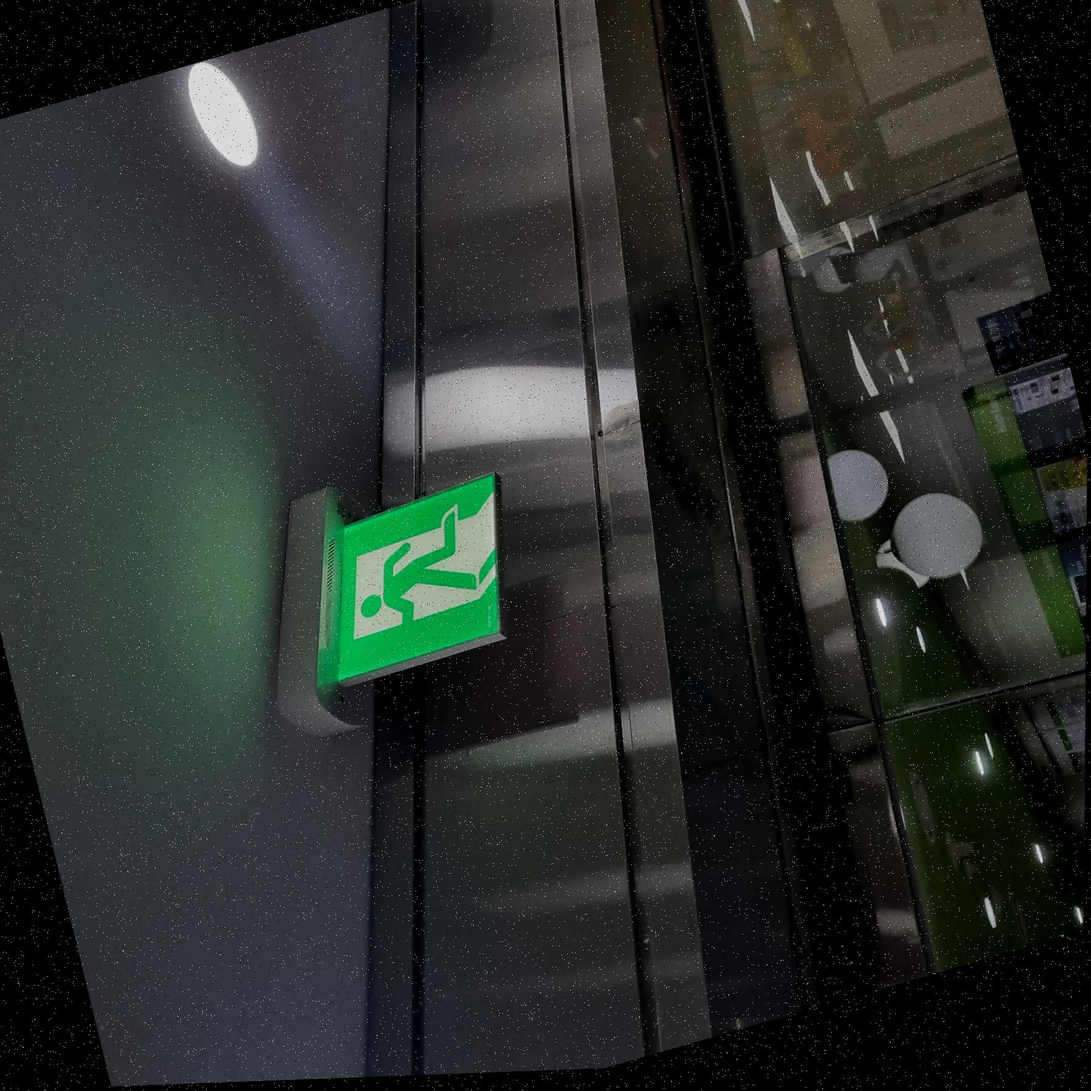emergency_exit: (314, 470, 507, 695)
